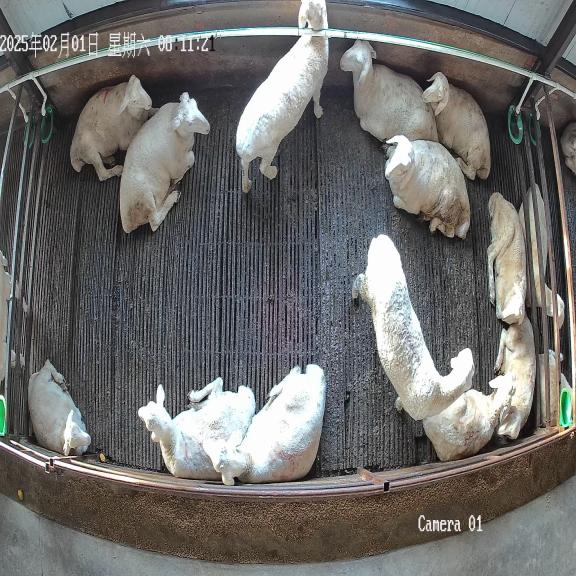lying: (203, 364, 325, 485), (120, 92, 209, 233), (138, 378, 256, 480), (340, 40, 439, 142), (70, 75, 158, 181), (385, 135, 470, 238), (423, 372, 515, 461), (423, 72, 490, 180), (28, 361, 90, 455), (494, 315, 536, 439), (487, 192, 526, 324)
stand: (352, 234, 474, 420), (236, 0, 328, 192)
